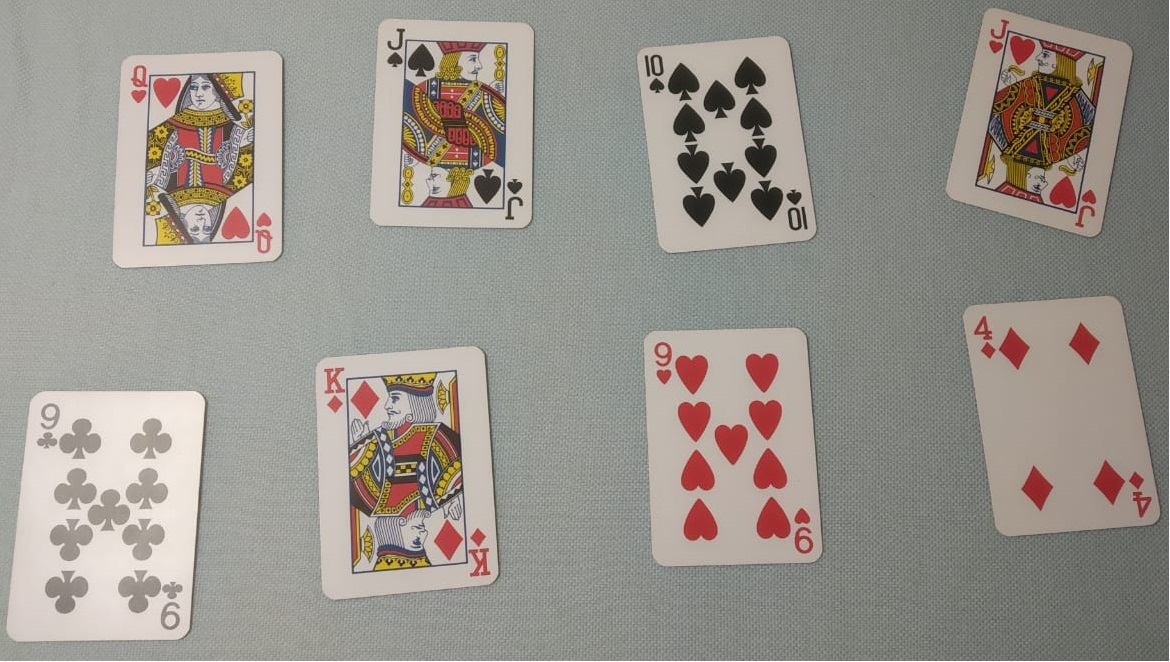four: (958, 271, 1170, 615)
jack: (936, 1, 1141, 252), (363, 2, 547, 237)
king: (294, 319, 511, 611)
nine: (622, 304, 883, 625), (1, 370, 218, 652)
queen: (87, 32, 308, 286)
ten: (616, 19, 841, 274)
